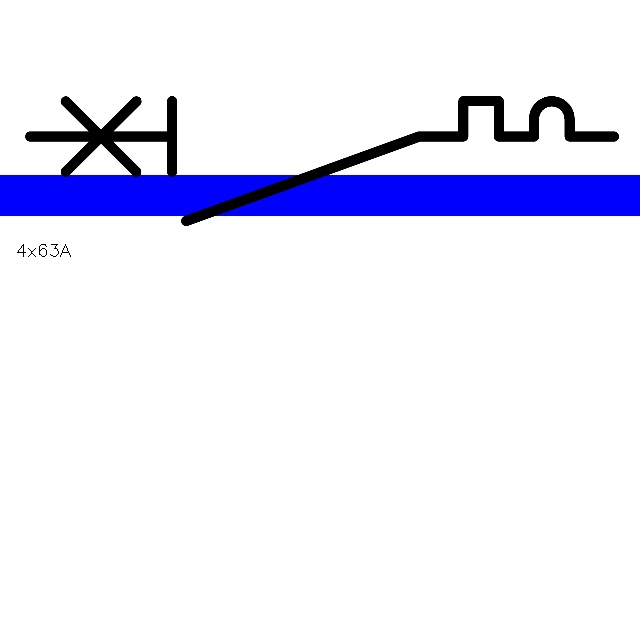interruptor_termomagnetico: (15, 86, 629, 236)
